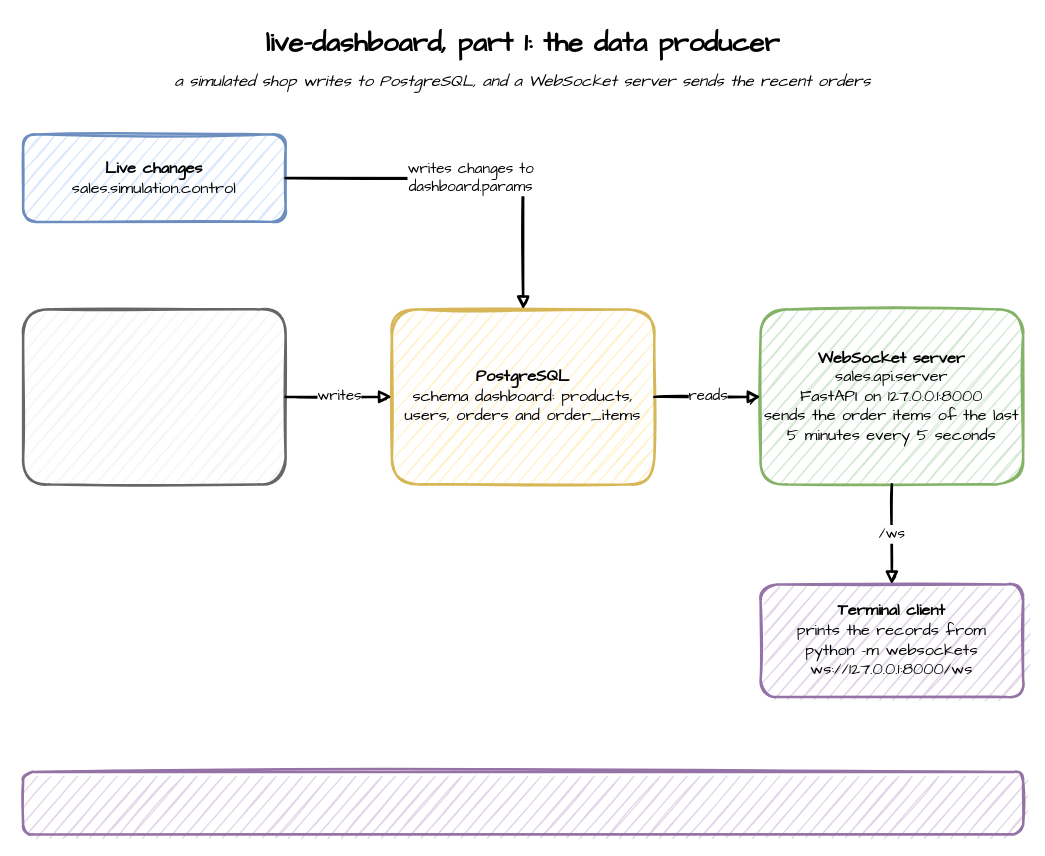
This 1045x856 diagram has some shape labels left out. Here are the shapes that lost their labels. From the top down, the centre of each, then its label:
point (153, 396): Shop simulation desflow run model.yaml visits, orders and pickers
point (522, 802): odctl: postgres, in Docker Compose
